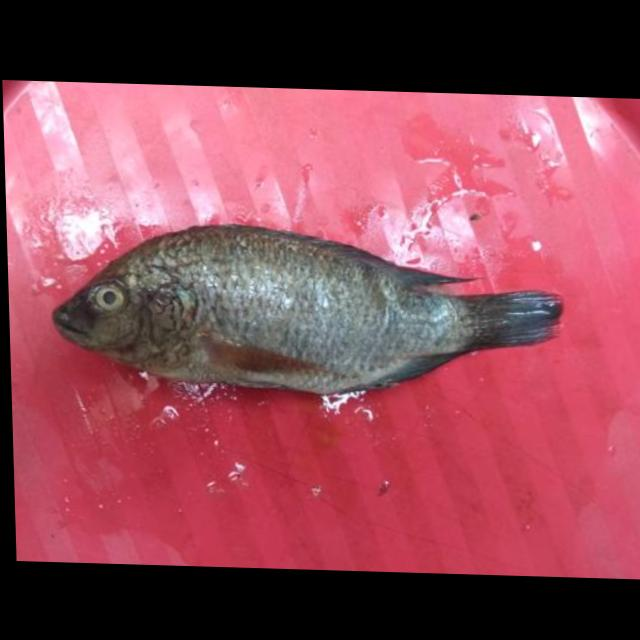Tilapia: (45, 216, 564, 400)
